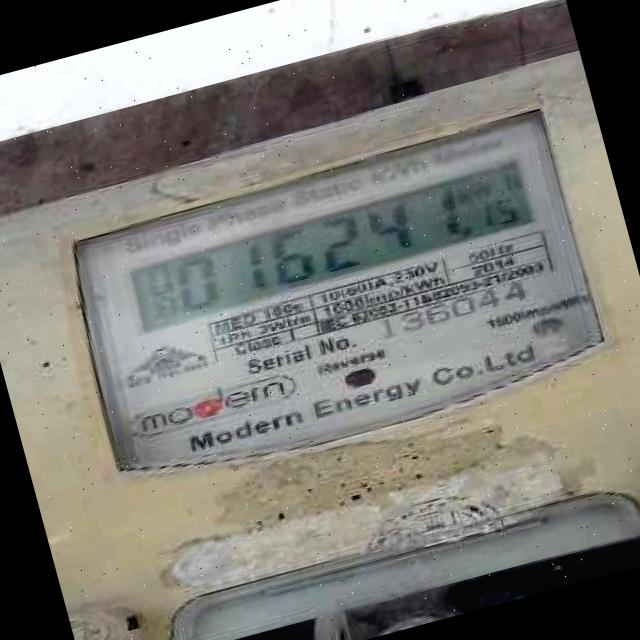LCD: (124, 155, 551, 336)
